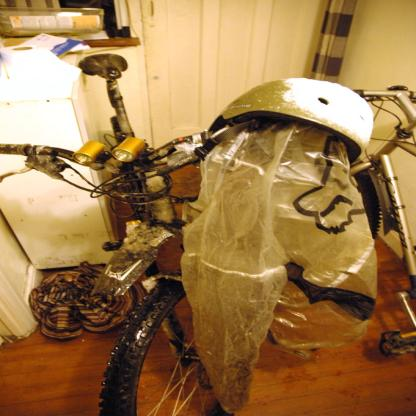Helmet: (196, 79, 374, 161)
